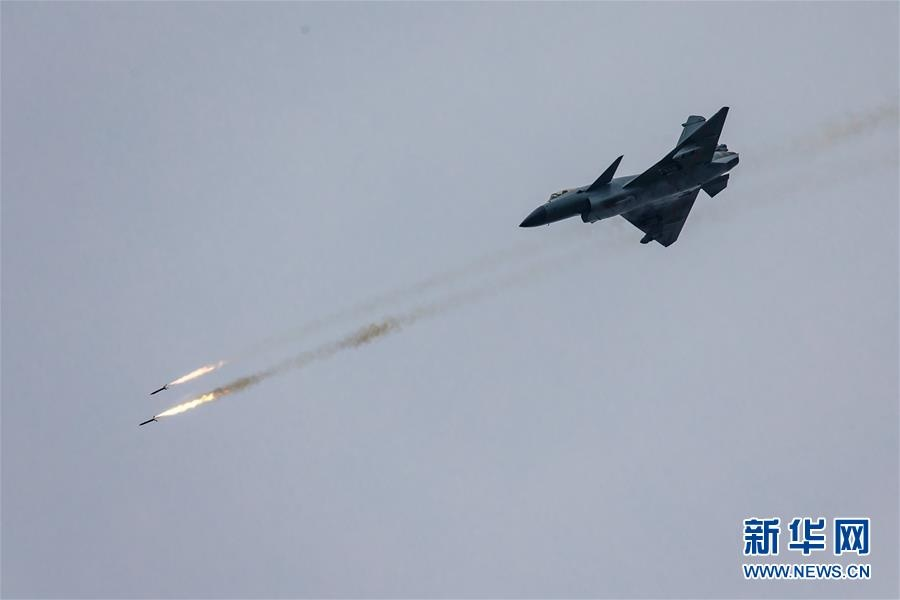airplane: (512, 105, 741, 253)
